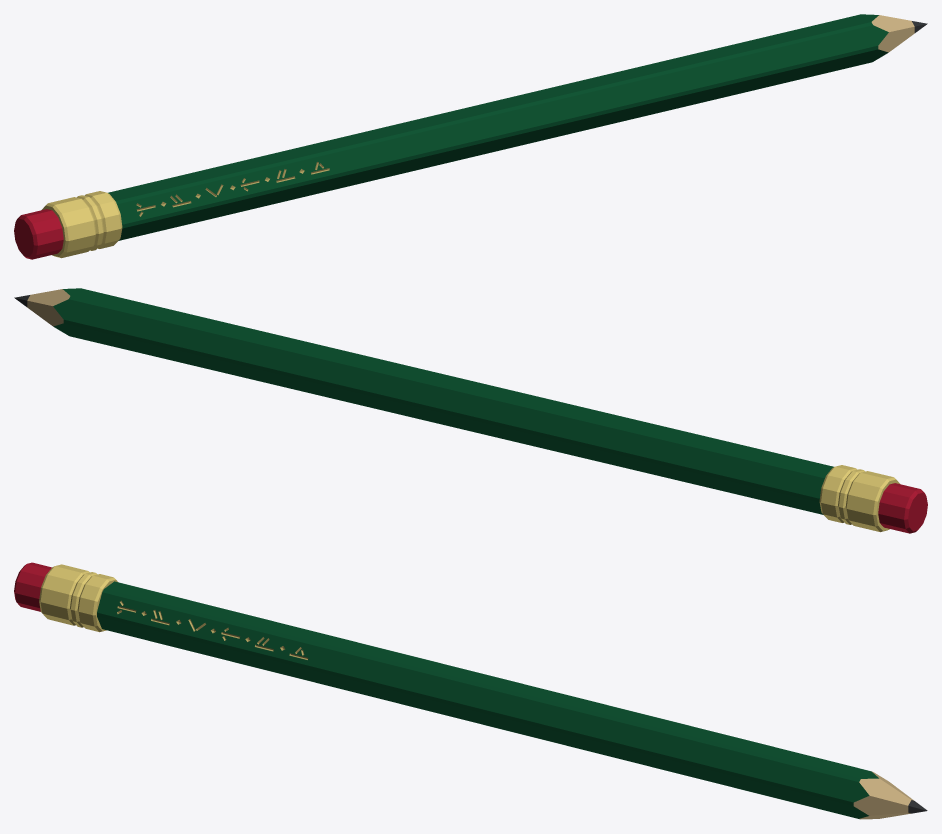
File: graphite-pencil-041893.glb
The picture shows the model from 3 angles, top to bottom: view 1: azimuth 30°, elevation 25°; view 2: azimuth 150°, elevation 25°; view 3: azimuth 330°, elevation 25°; orthographic projection.
Visible parts, largest first — view 1: lacquer-and-lead, gold, wood-and-eraser; view 2: lacquer-and-lead, gold, wood-and-eraser; view 3: lacquer-and-lead, gold, wood-and-eraser.
Part boxes in pixels (box(x1,y1,x2,y2)): lacquer-and-lead: box(108, 14, 927, 240); gold: box(41, 162, 329, 258); wood-and-eraser: box(14, 15, 914, 259); lacquer-and-lead: box(14, 288, 833, 514); gold: box(819, 465, 900, 532); wood-and-eraser: box(27, 289, 927, 533); lacquer-and-lead: box(97, 581, 927, 818); gold: box(39, 564, 308, 659); wood-and-eraser: box(14, 562, 913, 819).
Bounding box in the file's own units: 0.175 × 0.00957 × 0.0095.
